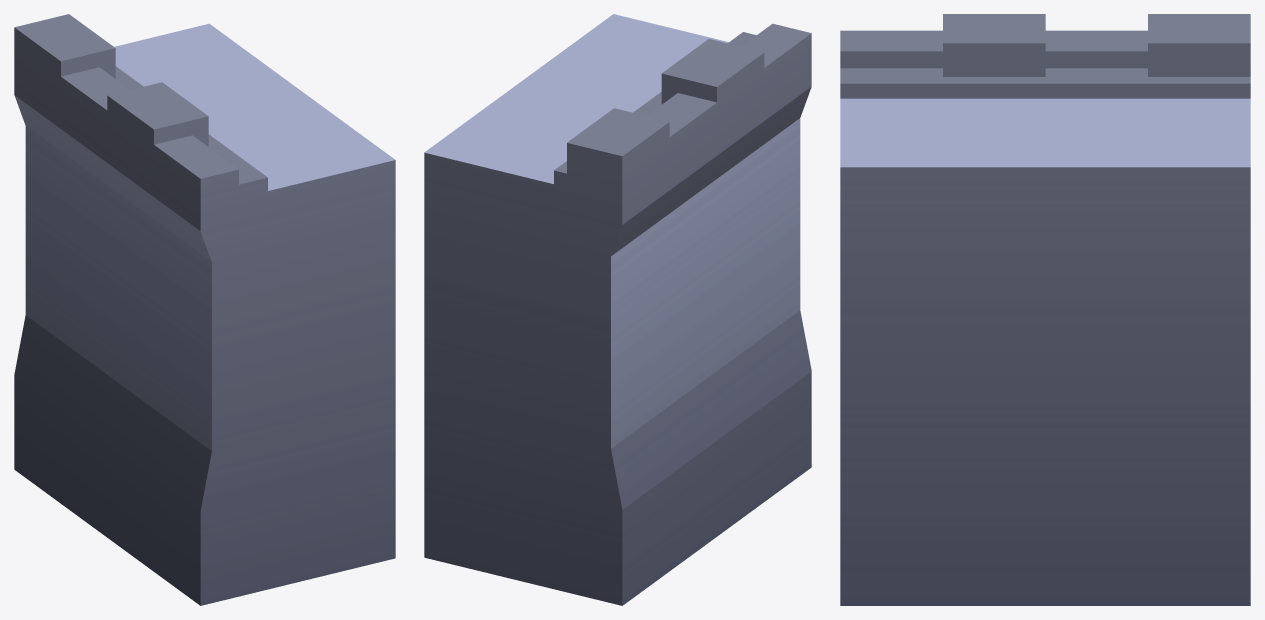
The model's file is wall-half-modular.fbx.
3 views of the same model, side by side, from view 1: azimuth 30°, elevation 25°; view 2: azimuth 150°, elevation 25°; view 3: azimuth 270°, elevation 25° (orthographic). The views are drawn at different scales.
Visible parts, largest first — view 1: wall-half-modular; view 2: wall-half-modular; view 3: wall-half-modular.
Part boxes in pixels (x1,y1,x2,y2): wall-half-modular: (14,14,395,605); wall-half-modular: (424,14,811,605); wall-half-modular: (840,14,1250,605).
Size of the model in its own units: 0.6046 by 1 by 1.31.
